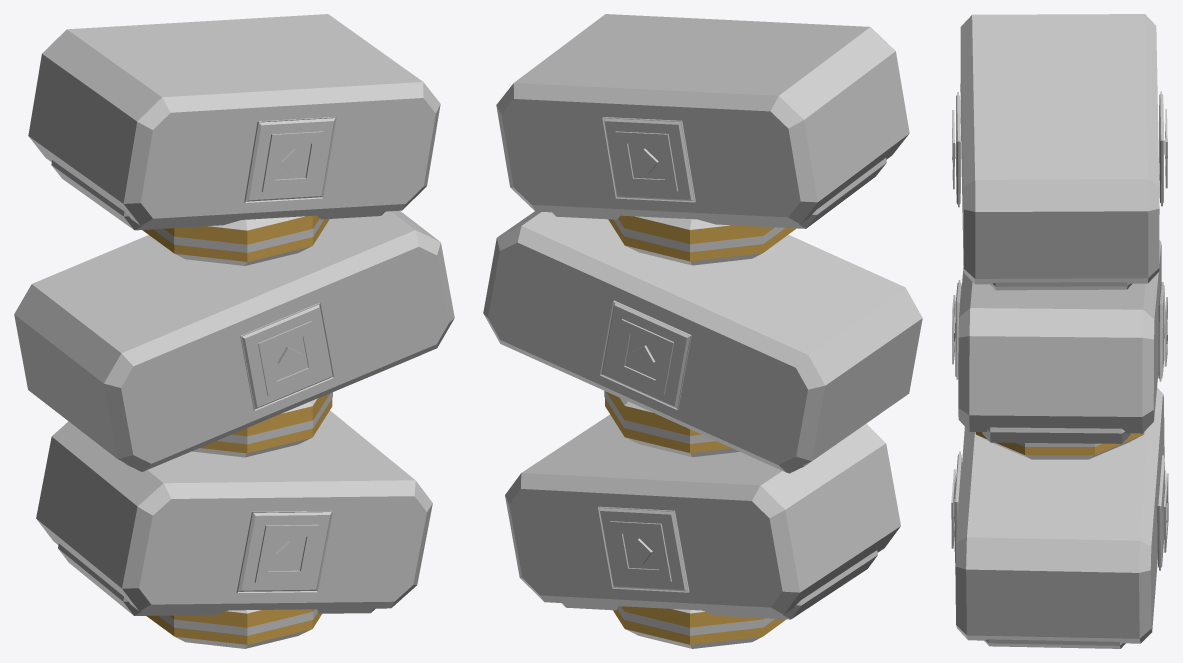
The model's file is wand_motion_26.obj.
3 renders of one model, left to right at view 1: azimuth 30°, elevation 25°; view 2: azimuth 150°, elevation 25°; view 3: azimuth 270°, elevation 25°, orthographic. The views are drawn at different scales.
Parts seen in each view (by area): view 1: chamfered_seal_tablet_1, chamfered_seal_tablet_2, chamfered_seal_tablet_0, tablet_spacer_2, inset_rune_socket_1, inset_rune_socket_3, inset_rune_socket_5, tablet_spacer_0, tablet_spacer_1, seal_shadow_base_2, seal_shadow_base_0, tablet_spacer_dark_seam_2 (+2 smaller); view 2: chamfered_seal_tablet_1, chamfered_seal_tablet_2, chamfered_seal_tablet_0, tablet_spacer_2, inset_rune_socket_4, inset_rune_socket_2, inset_rune_socket_0, tablet_spacer_0, tablet_spacer_1, seal_shadow_base_0, seal_shadow_base_2, tablet_spacer_dark_seam_2 (+2 smaller); view 3: chamfered_seal_tablet_2, chamfered_seal_tablet_0, chamfered_seal_tablet_1, seal_shadow_base_1, tablet_spacer_1, seal_shadow_base_2, seal_shadow_base_0, inset_rune_socket_0, inset_rune_socket_2, inset_rune_socket_5, inset_rune_socket_4, inset_rune_socket_1 (+1 smaller).
Boxes of the visible parts, box(x1,y1,x2,y2) form: chamfered_seal_tablet_1: box(14, 210, 454, 471); chamfered_seal_tablet_2: box(28, 14, 440, 225); chamfered_seal_tablet_0: box(36, 410, 432, 611); tablet_spacer_2: box(142, 215, 329, 265); inset_rune_socket_1: box(236, 510, 332, 592); inset_rune_socket_3: box(240, 302, 333, 410); inset_rune_socket_5: box(244, 116, 336, 202); tablet_spacer_0: box(146, 609, 321, 648); tablet_spacer_1: box(192, 393, 332, 457); seal_shadow_base_2: box(51, 160, 384, 230); seal_shadow_base_0: box(58, 543, 375, 615); tablet_spacer_dark_seam_2: box(153, 218, 323, 252); chamfered_seal_tablet_1: box(483, 211, 922, 472); chamfered_seal_tablet_2: box(496, 14, 909, 224); chamfered_seal_tablet_0: box(505, 414, 900, 614); tablet_spacer_2: box(608, 215, 796, 265); inset_rune_socket_4: box(602, 117, 695, 202); inset_rune_socket_2: box(600, 300, 691, 410); inset_rune_socket_0: box(598, 506, 689, 592); tablet_spacer_0: box(613, 606, 786, 648); tablet_spacer_1: box(605, 392, 739, 457); seal_shadow_base_0: box(561, 550, 877, 619); seal_shadow_base_2: box(552, 158, 886, 228); tablet_spacer_dark_seam_2: box(614, 218, 784, 252); chamfered_seal_tablet_2: box(960, 14, 1159, 284); chamfered_seal_tablet_0: box(955, 387, 1164, 643); chamfered_seal_tablet_1: box(958, 240, 1161, 433); seal_shadow_base_1: box(982, 427, 1130, 443); tablet_spacer_1: box(975, 432, 1144, 459); seal_shadow_base_2: box(990, 282, 1132, 290); seal_shadow_base_0: box(984, 639, 1125, 648); inset_rune_socket_0: box(1157, 455, 1165, 570); inset_rune_socket_2: box(1158, 282, 1164, 381); inset_rune_socket_5: box(955, 92, 960, 207); inset_rune_socket_4: box(1159, 91, 1164, 206); inset_rune_socket_1: box(954, 451, 961, 562).
Bounding box in the file's own units: 0.1973 × 0.3134 × 0.1146.
